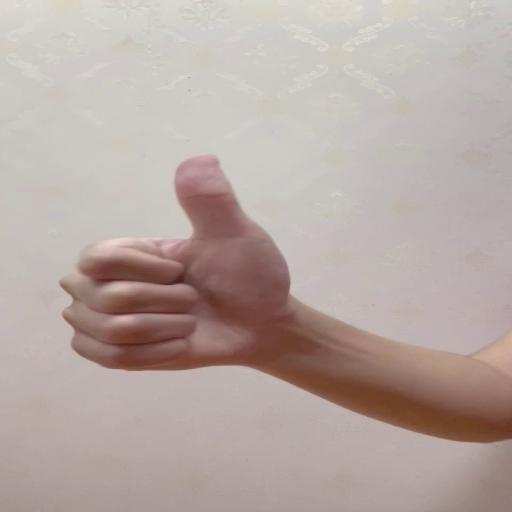thumbs_up: (57, 153, 288, 374)
